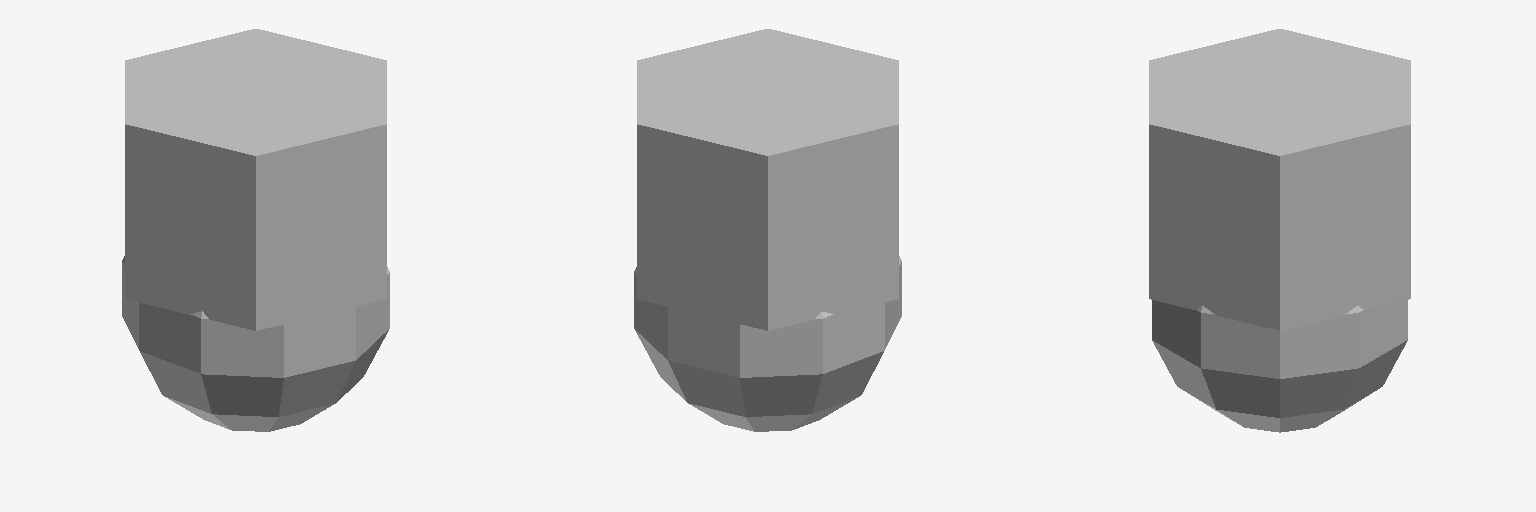
The model's file is arm_parts.obj.
3 renders of one model, left to right at view 1: azimuth 30°, elevation 25°; view 2: azimuth 150°, elevation 25°; view 3: azimuth 270°, elevation 25°, orthographic.
Parts seen in each view (by area): view 1: udebubun_notpaint:name2; view 2: udebubun_notpaint:name2; view 3: udebubun_notpaint:name2.
Boxes of the visible parts, box(x1,y1,x2,y2) form: udebubun_notpaint:name2: box(122, 29, 389, 431); udebubun_notpaint:name2: box(634, 29, 901, 431); udebubun_notpaint:name2: box(1149, 29, 1410, 432).
Size of the model in its own units: 1 by 1.2 by 0.866.